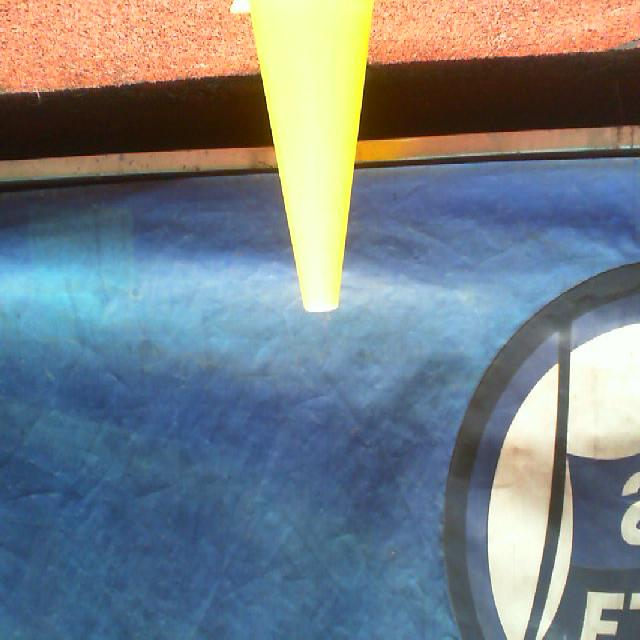cone: (229, 0, 374, 312)
